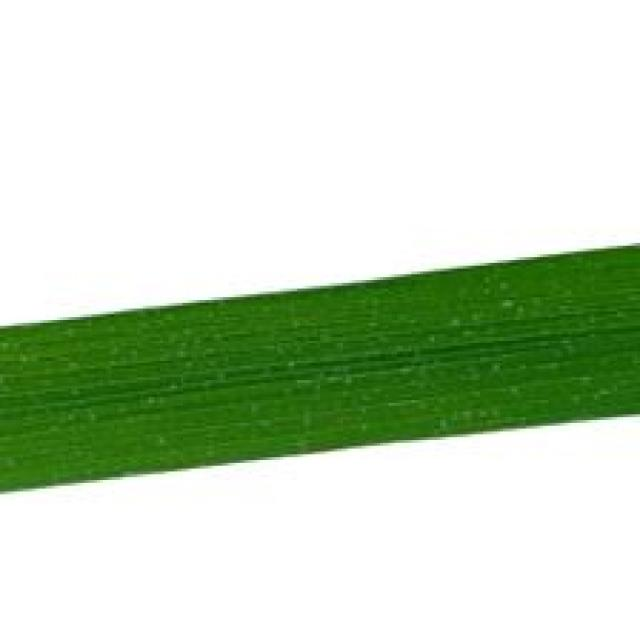Rice___Healthy_Rice_Plant: (0, 247, 637, 496)
